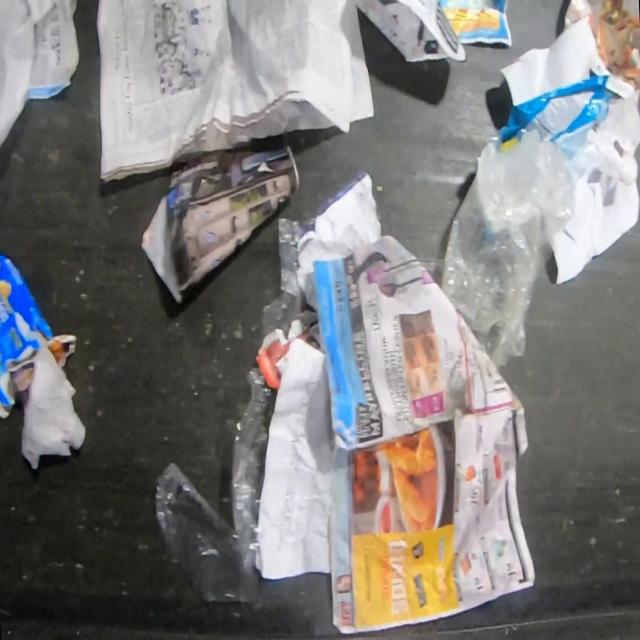cardboard: (0, 253, 52, 418)
soft_plastic: (438, 137, 576, 368), (152, 367, 278, 602), (488, 76, 613, 151), (262, 218, 313, 339)
